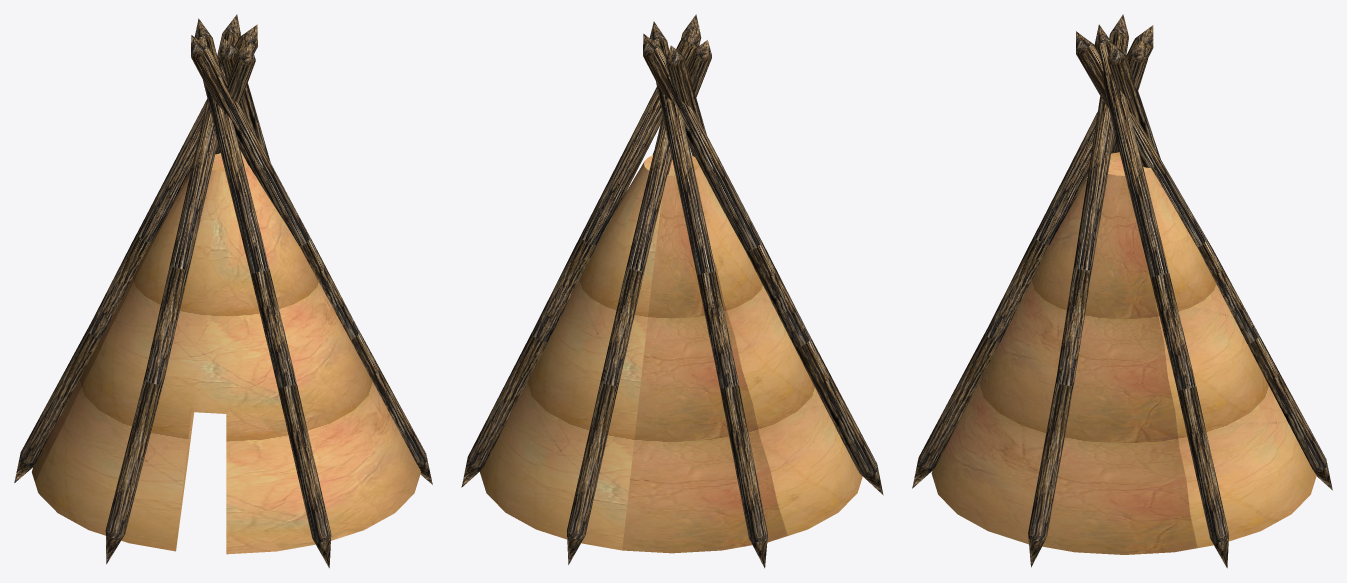
Rendered from TeePee.FBX.
The picture shows the model from 3 angles, left to right: view 1: azimuth 30°, elevation 25°; view 2: azimuth 150°, elevation 25°; view 3: azimuth 270°, elevation 25°; orthographic projection.
Parts seen in each view (by area): view 1: Cone001, Cylinder004, Cylinder005, Cylinder003, Cylinder006, Cylinder002, Cylinder001; view 2: Cone001, Cylinder006, Cylinder005, Cylinder002, Cylinder001, Cylinder004, Cylinder003; view 3: Cone001, Cylinder002, Cylinder003, Cylinder004, Cylinder001, Cylinder006, Cylinder005.
Boxes of the visible parts, x1,y1,x2,y2 form: Cone001: (32,150,420,554); Cylinder004: (194,18,331,568); Cylinder005: (105,14,240,564); Cylinder003: (191,35,432,484); Cylinder006: (14,24,257,482); Cylinder002: (219,39,270,161); Cylinder001: (215,43,255,154); Cone001: (480,155,862,553); Cylinder006: (649,21,767,568); Cylinder005: (643,33,883,495); Cylinder002: (461,26,699,487); Cylinder001: (567,14,701,564); Cylinder004: (665,45,706,156); Cylinder003: (652,40,711,154); Cone001: (931,152,1316,554); Cylinder002: (1094,24,1228,568); Cylinder003: (1028,14,1128,567); Cylinder004: (912,25,1153,488); Cylinder001: (1076,31,1332,490); Cylinder006: (1107,43,1160,158); Cylinder005: (1111,41,1148,153).
Bounding box in the file's own units: 66.25 × 87.09 × 72.25.
